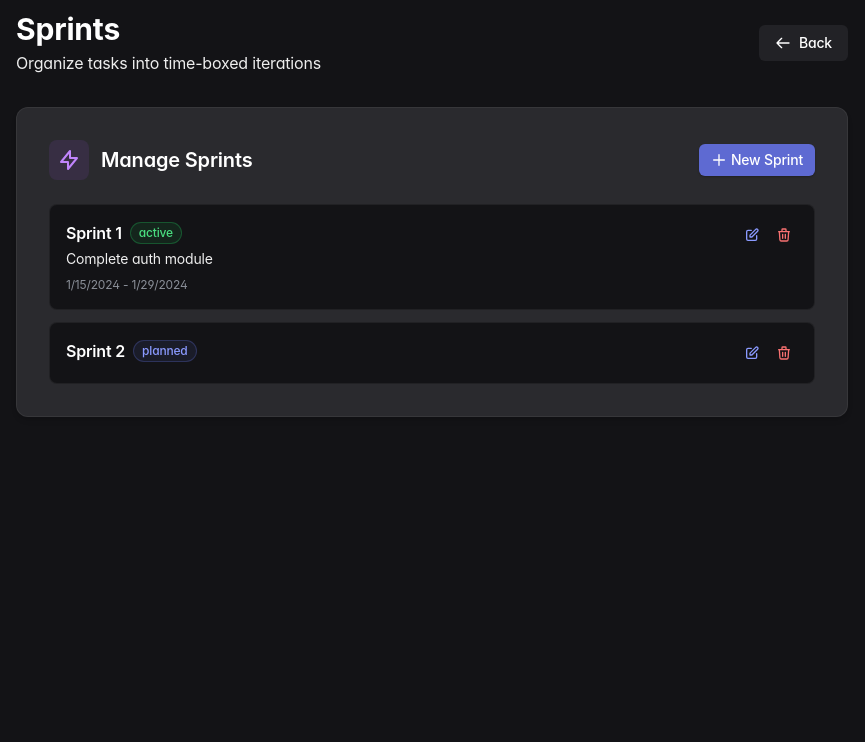
Test: Sprints › shows error on failed save
Expected: the heading "Sprint 1" is shown, [66, 221, 122, 245]
Click the button "New Sprint" at (757, 160), box [699, 144, 815, 176]
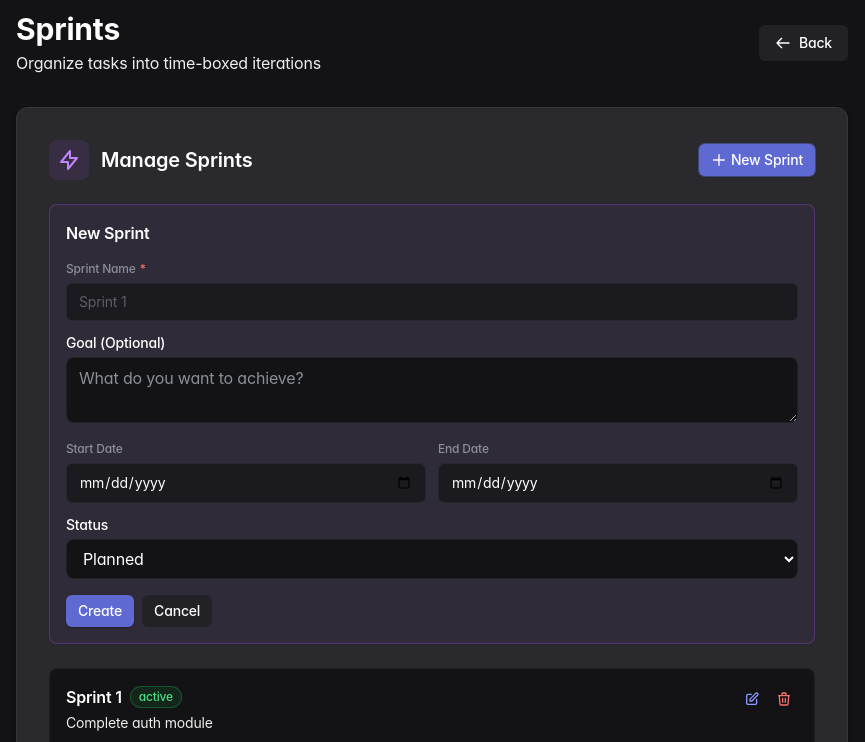
Type "Sprint 3" into the field with placeholder "Sprint 1" at (432, 302), box [66, 283, 798, 321]
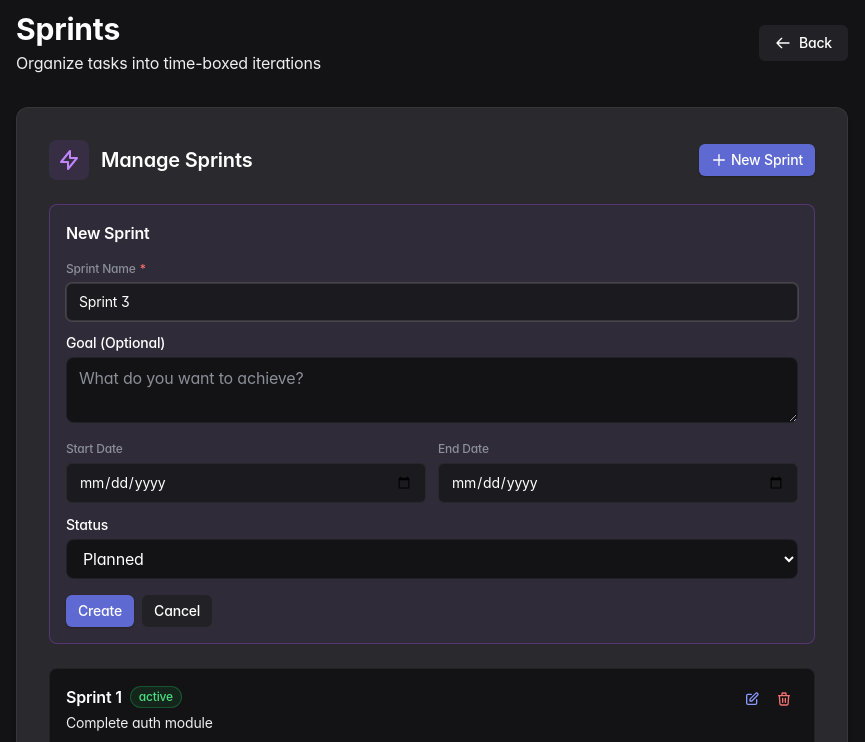
Click the button "Create" at (100, 611), box [66, 595, 134, 627]
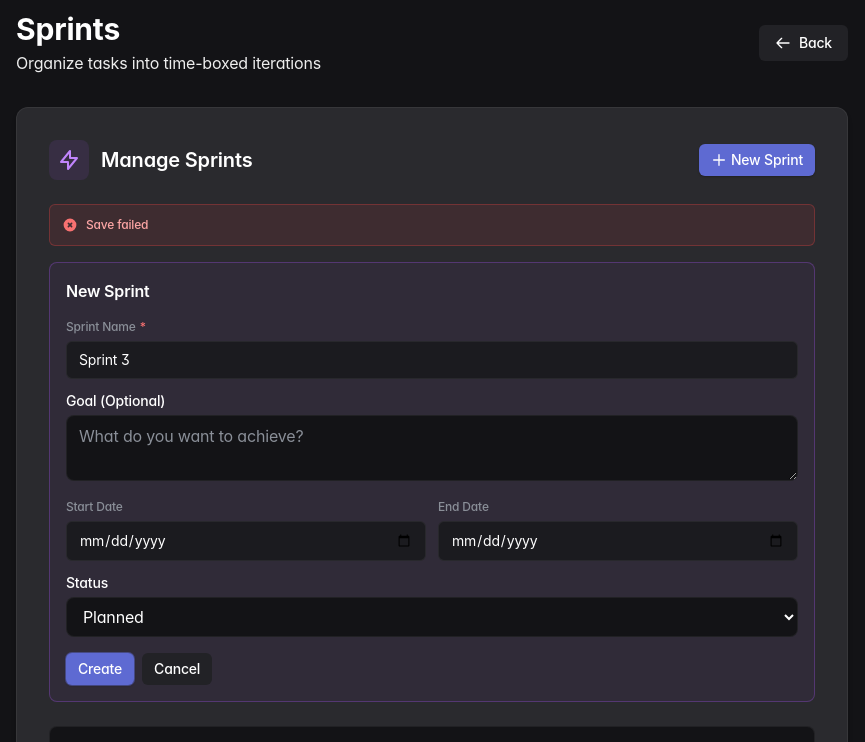
Now the text "Save failed" is shown, box [86, 217, 148, 233]
